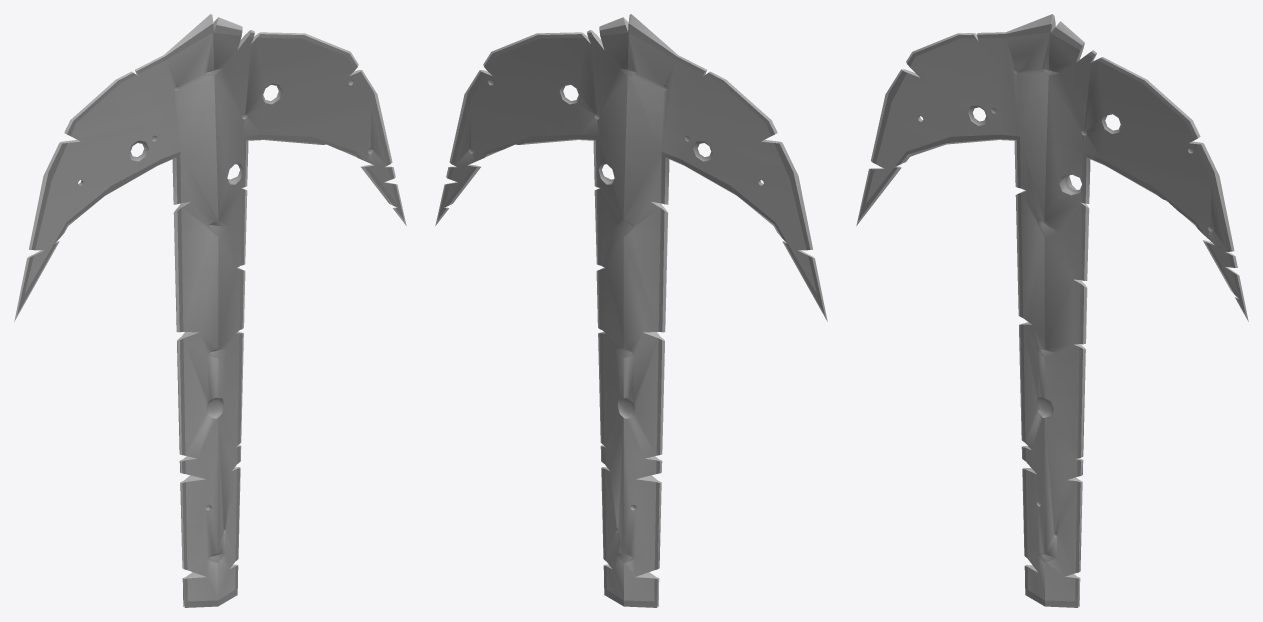
The model's file is stone_blade_bubbles_049.glb.
3 renders of one model, left to right at view 1: azimuth 30°, elevation 25°; view 2: azimuth 150°, elevation 25°; view 3: azimuth 330°, elevation 25°, orthographic.
Visible parts, largest first — view 1: stone_blade_bubbles.049; view 2: stone_blade_bubbles.049; view 3: stone_blade_bubbles.049.
Boxes of the visible parts, x1,y1,x2,y2 form: stone_blade_bubbles.049: [14, 14, 406, 607]; stone_blade_bubbles.049: [435, 14, 827, 607]; stone_blade_bubbles.049: [856, 14, 1248, 607].
Size of the model in its own units: 8.24 by 11.78 by 0.5822.
1 material, 1 textured.
